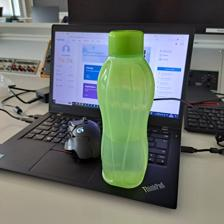bottle: (95, 27, 155, 189)
mouse: (62, 118, 101, 159)
